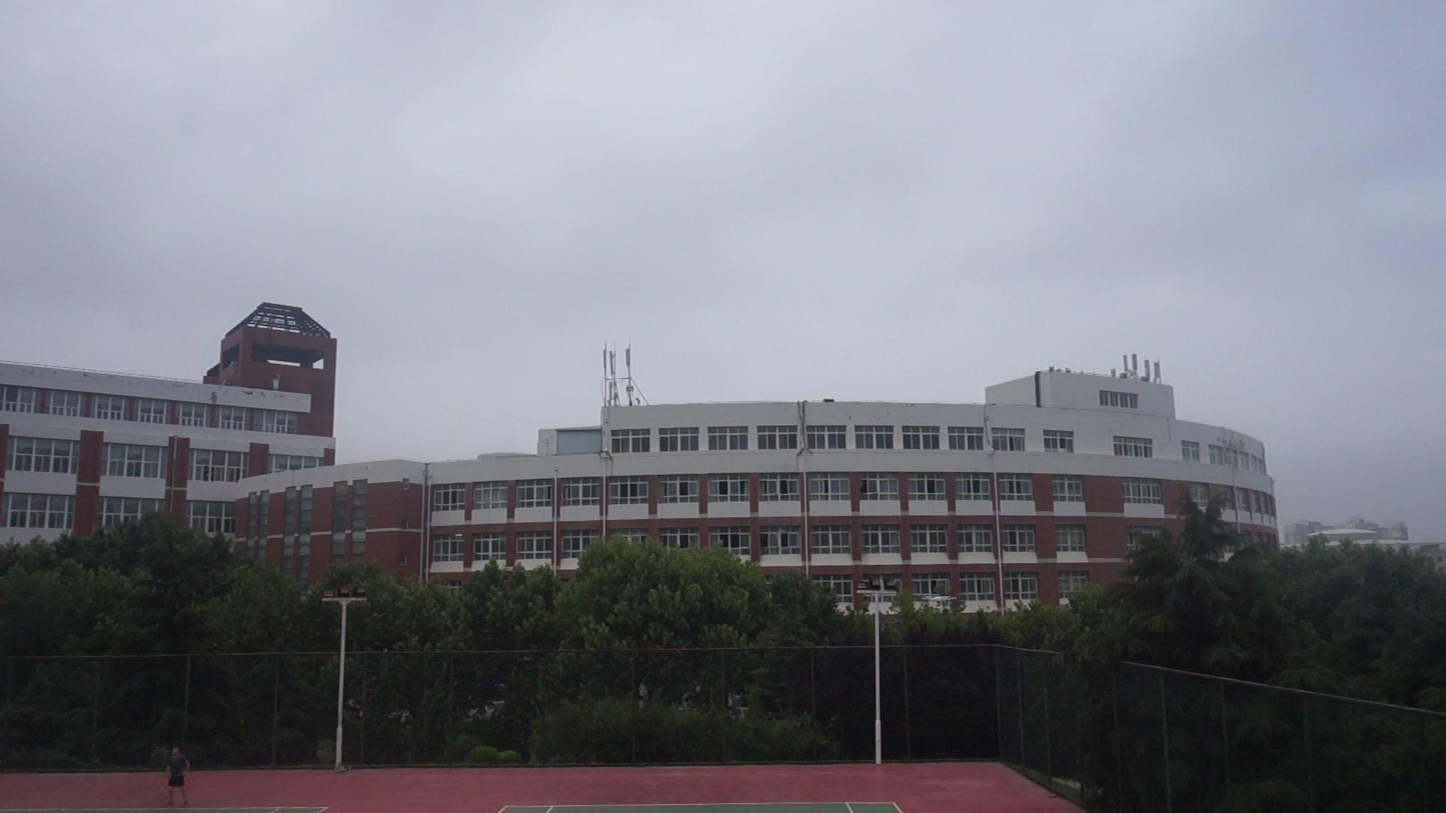UAV: (922, 596, 958, 609)
